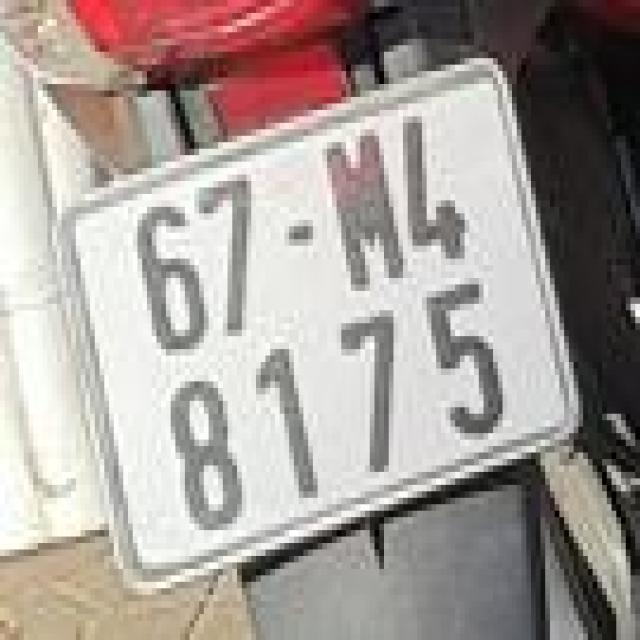1: (245, 318, 339, 517)
4: (392, 95, 487, 277)
5: (413, 262, 522, 454)
6: (124, 181, 218, 370)
7: (330, 293, 416, 485), (190, 165, 270, 341)
8: (151, 354, 261, 549)
M: (312, 119, 414, 303)
